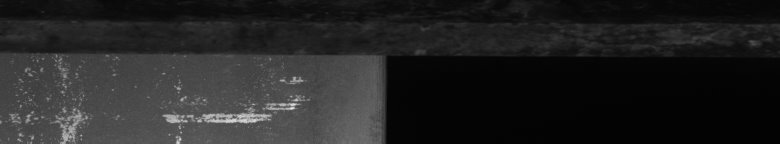kb: (4, 20, 375, 136)
